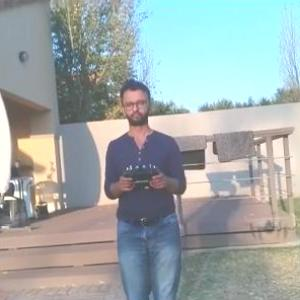follow: (102, 74, 195, 299)
